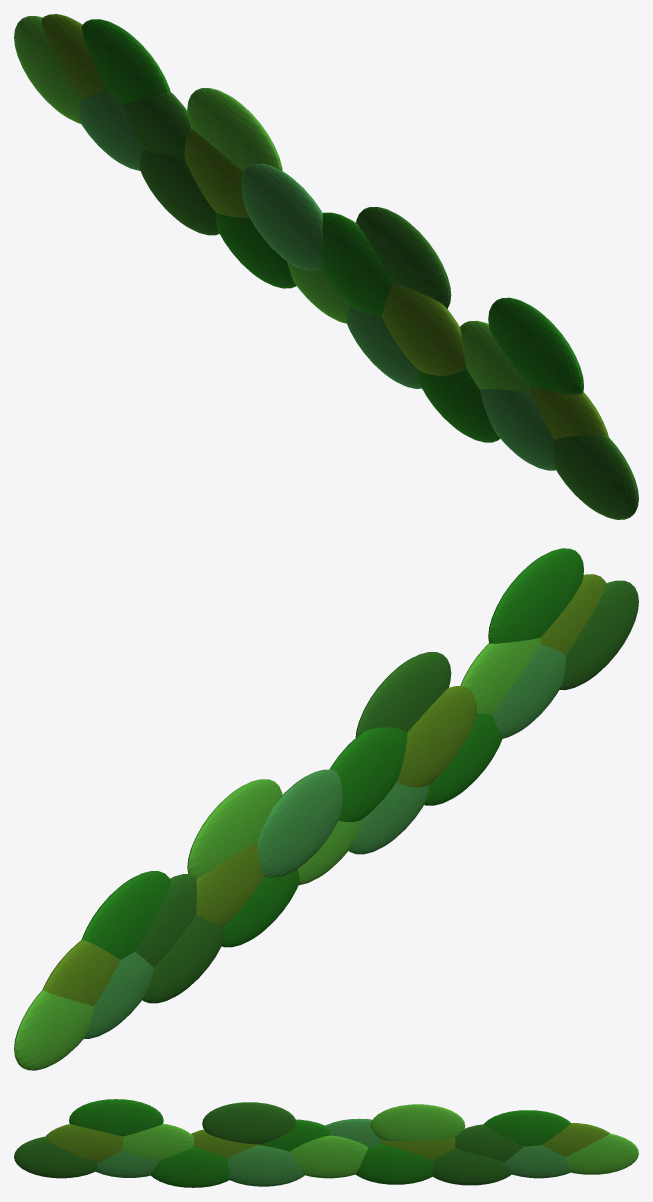
The model's file is grass.gltf.
3 renders of one model, top to bottom at view 1: azimuth 30°, elevation 25°; view 2: azimuth 150°, elevation 25°; view 3: azimuth 270°, elevation 25°, orthographic. The views are drawn at different scales.
Parts seen in each view (by area): view 1: Sphere.005; view 2: Sphere.005; view 3: Sphere.005.
Boxes of the visible parts, box(x1,y1,x2,y2) form: Sphere.005: box(14, 14, 638, 519); Sphere.005: box(14, 548, 638, 1070); Sphere.005: box(14, 1099, 638, 1187).
Size of the model in its own units: 2.77 by 20.67 by 132.
